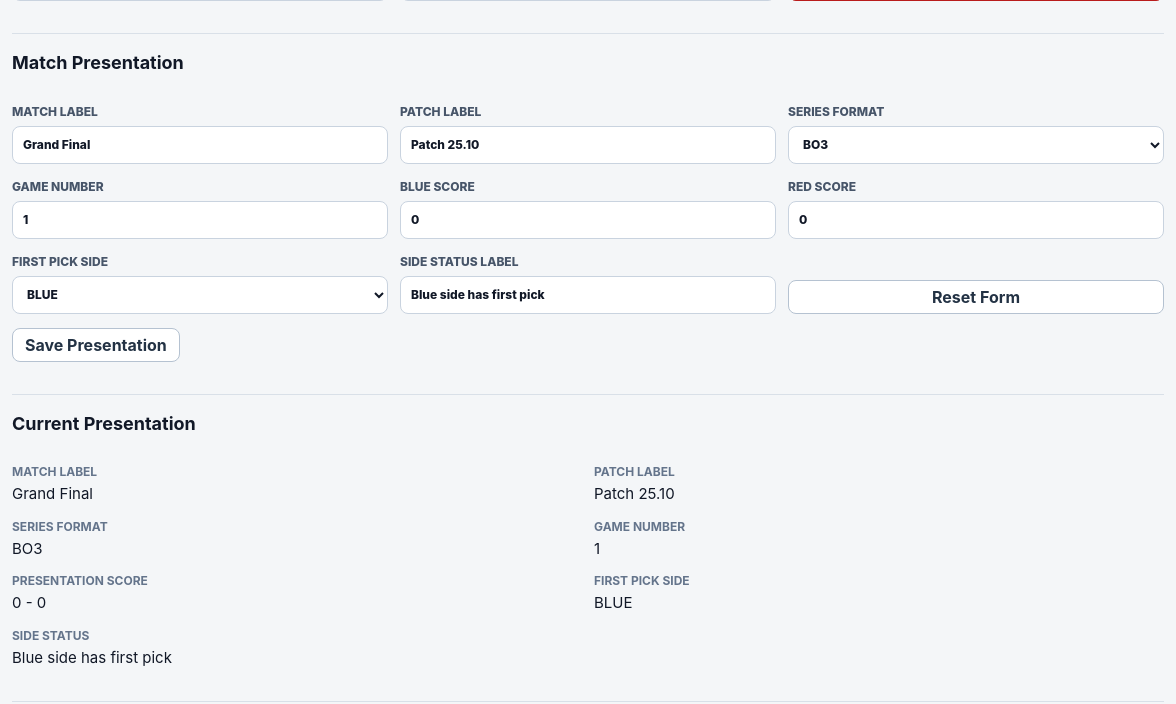
Test: ProducerPanel › shows useful API errors when the presentation PATCH is rejected
(page scrolled)
What coordinates should you click on to do the following:
click the button "Save Presentation"
I would click on:
 (96, 344)
Its box is [12,328,180,362].
(page scrolled)
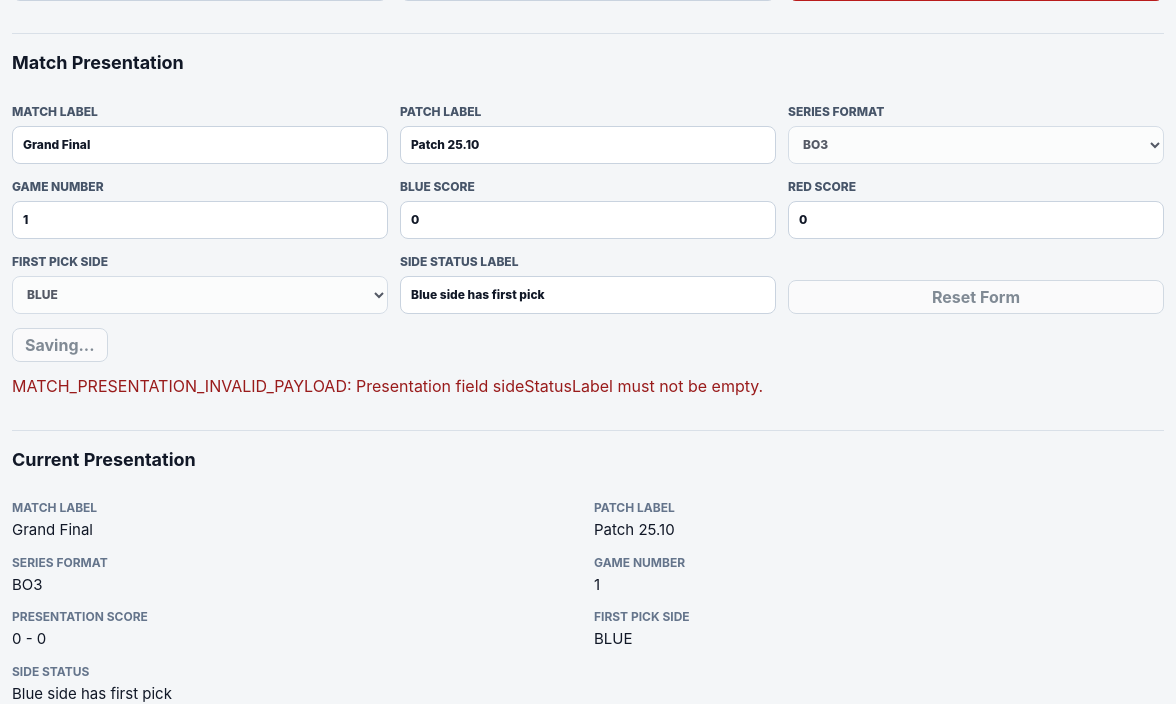
Result: the text "MATCH_PRESENTATION_INVALID_PAYLOAD" is shown at [12,376,347,396]
Result: the text "Presentation field sideStatusLabel must not be empty." is shown at [356,376,763,396]
